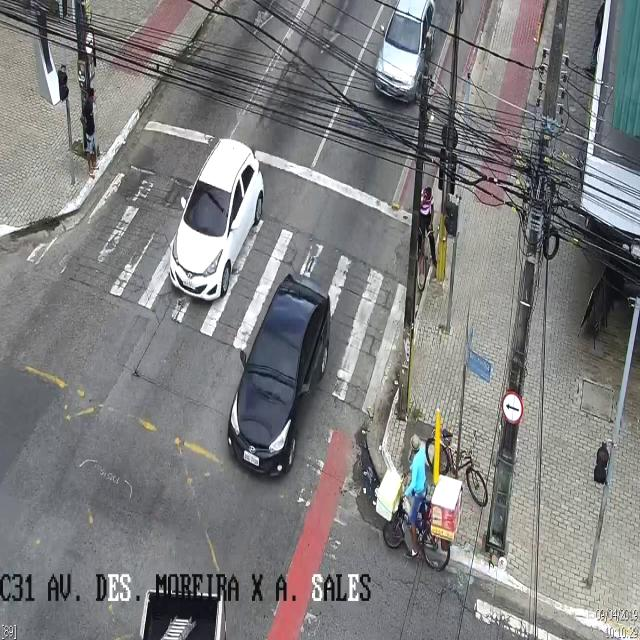Car: (226, 276, 330, 484), (169, 137, 265, 302), (374, 4, 435, 100)
